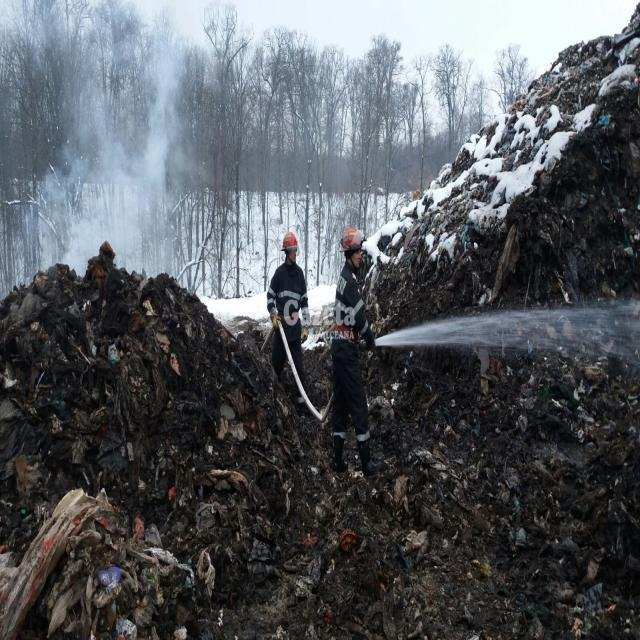Smoke: (8, 0, 230, 301)
